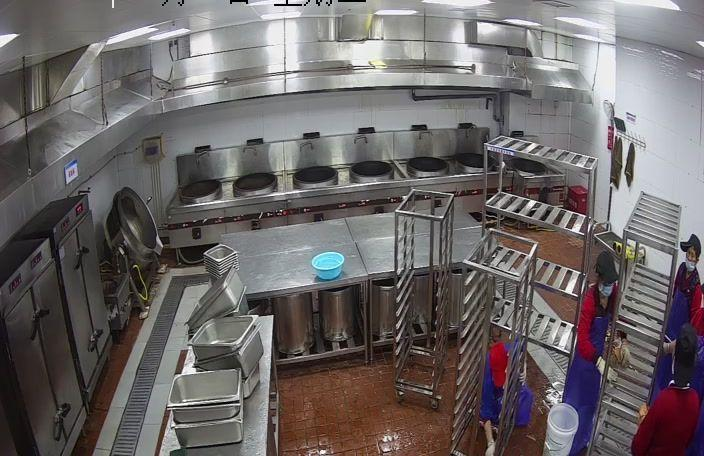mask: (684, 254, 700, 272)
